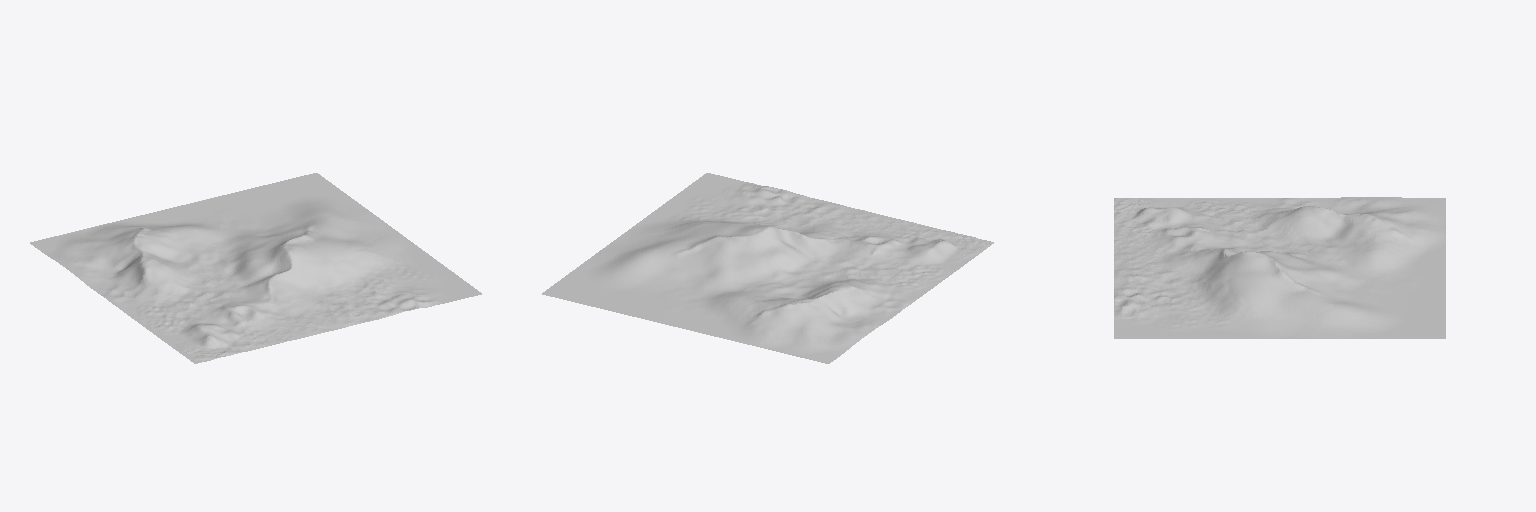
Rendered from Terrain3_1.obj.
3 views of the same model, side by side, from view 1: azimuth 30°, elevation 25°; view 2: azimuth 150°, elevation 25°; view 3: azimuth 270°, elevation 25° (orthographic).
Visible parts, largest first — view 1: Terrain3; view 2: Terrain3; view 3: Terrain3.
Boxes of the visible parts, x1,y1,x2,y2 form: Terrain3: [30, 173, 481, 363]; Terrain3: [542, 173, 993, 363]; Terrain3: [1114, 197, 1445, 338].
Size of the model in its own units: 1000 by 82.65 by 1000.